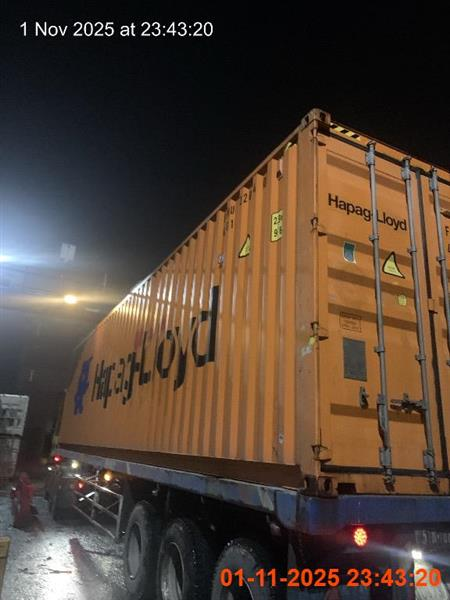crack: (46, 109, 449, 599)
